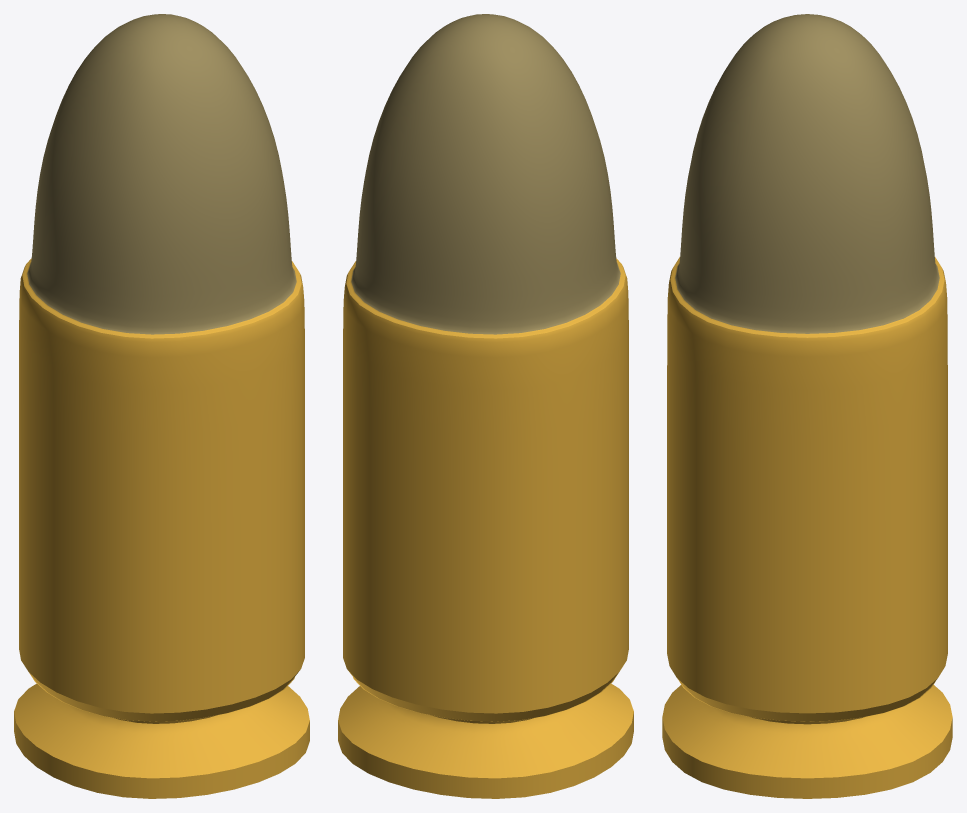
Rendered from bALA.fbx.
The picture shows the model from 3 angles, left to right: view 1: azimuth 30°, elevation 25°; view 2: azimuth 150°, elevation 25°; view 3: azimuth 270°, elevation 25°; orthographic projection.
Visible parts, largest first — view 1: Cube; view 2: Cube; view 3: Cube.
Part boxes in pixels (left/top/right/bottom): Cube: left=14, top=14, right=309, bottom=798; Cube: left=338, top=14, right=633, bottom=798; Cube: left=662, top=14, right=952, bottom=798.
Size of the model in its own units: 83.23 by 227 by 83.23.
